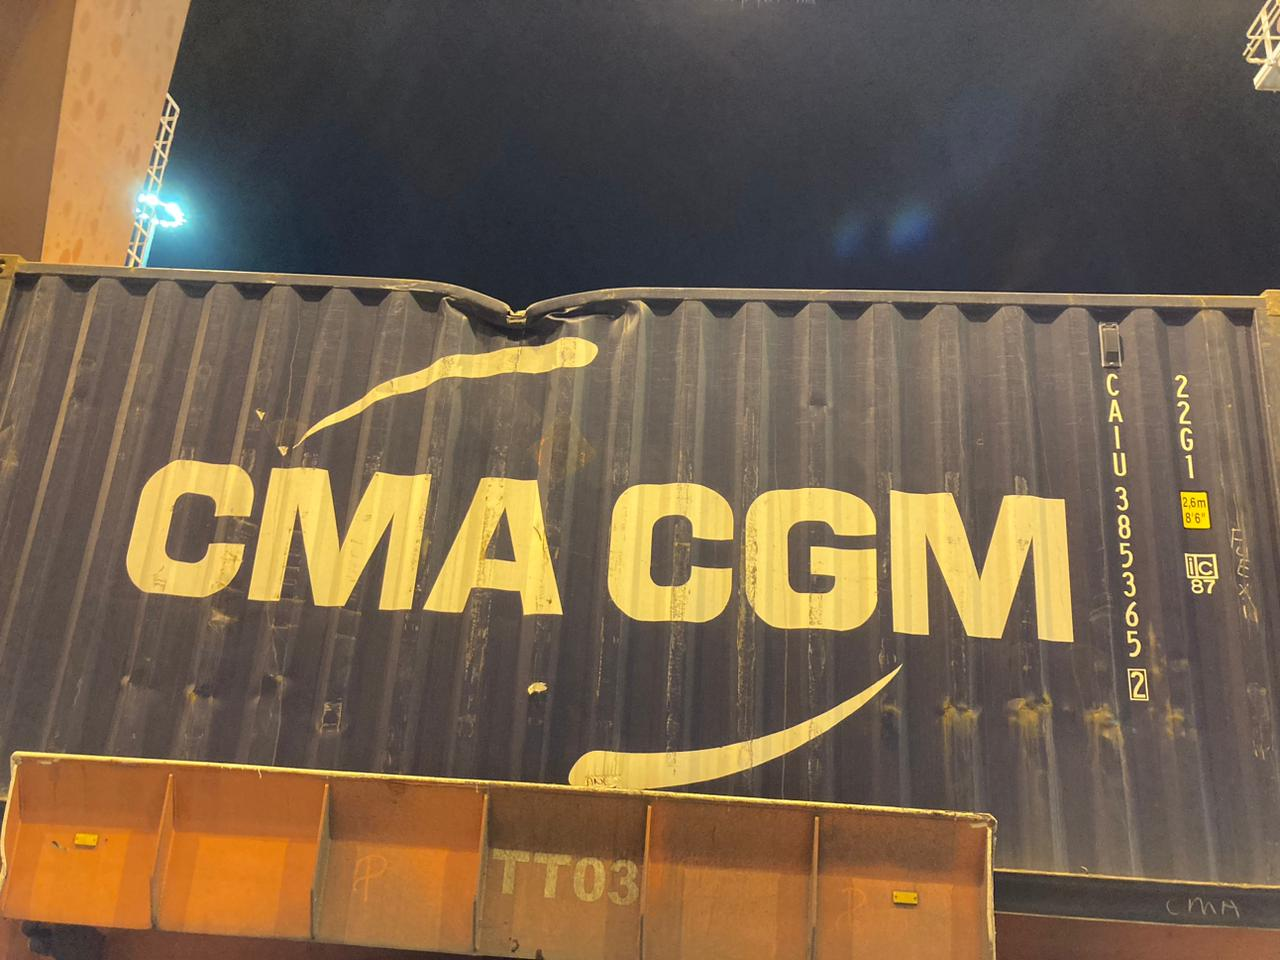moderate: (60, 622, 322, 724), (885, 679, 1201, 761), (423, 280, 654, 379)
